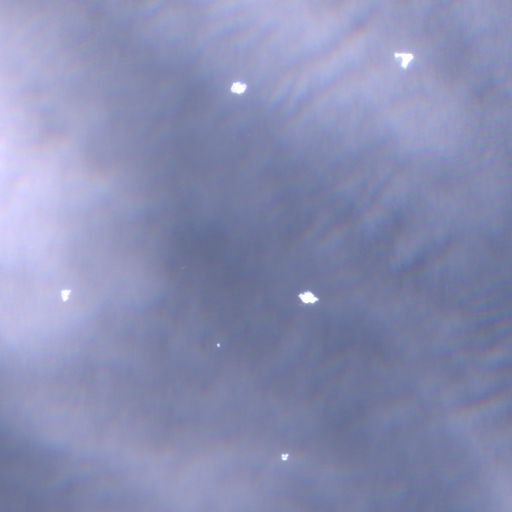Iceberg: (394, 53, 412, 68), (299, 291, 318, 303), (230, 82, 246, 93), (61, 290, 70, 301), (281, 454, 288, 460), (217, 343, 219, 346)
